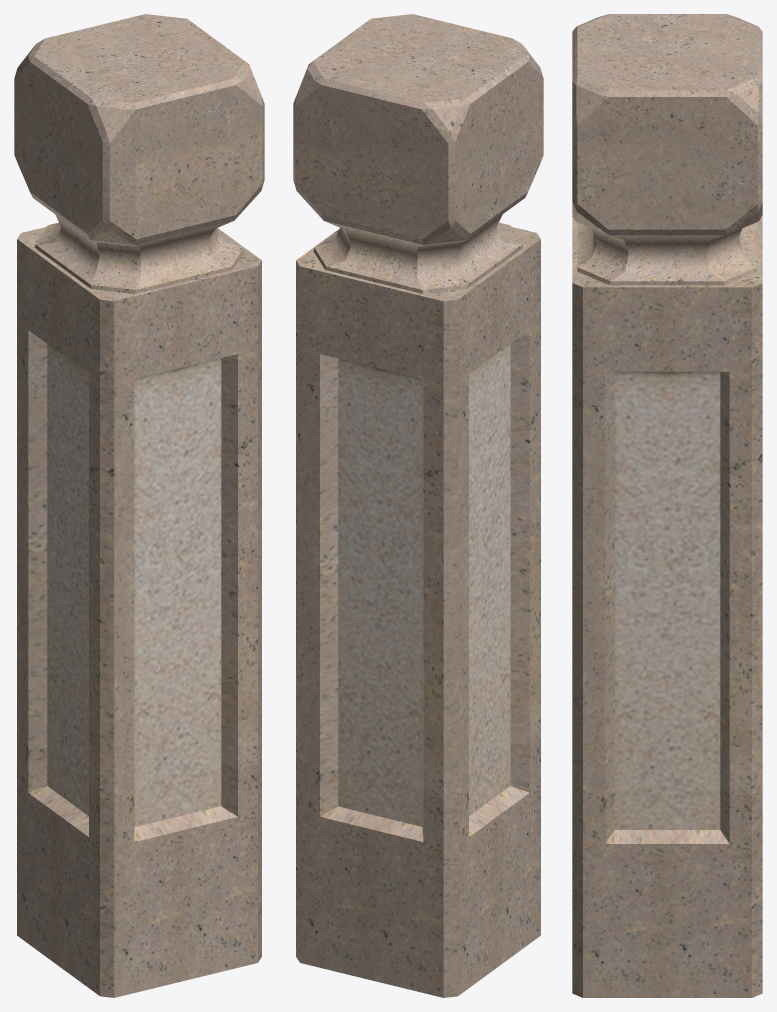
File: Building_StoneFence01.FBX
3 renders of one model, left to right at view 1: azimuth 30°, elevation 25°; view 2: azimuth 150°, elevation 25°; view 3: azimuth 270°, elevation 25°, orthographic. The views are drawn at different scales.
Visible parts, largest first — view 1: Building_Beilangqiao01; view 2: Building_Beilangqiao01; view 3: Building_Beilangqiao01.
Boxes of the visible parts, bbox=[...] form: Building_Beilangqiao01: bbox=[14, 14, 264, 997]; Building_Beilangqiao01: bbox=[293, 14, 543, 997]; Building_Beilangqiao01: bbox=[572, 14, 762, 997].
Size of the model in its own units: 20 by 105 by 20.
